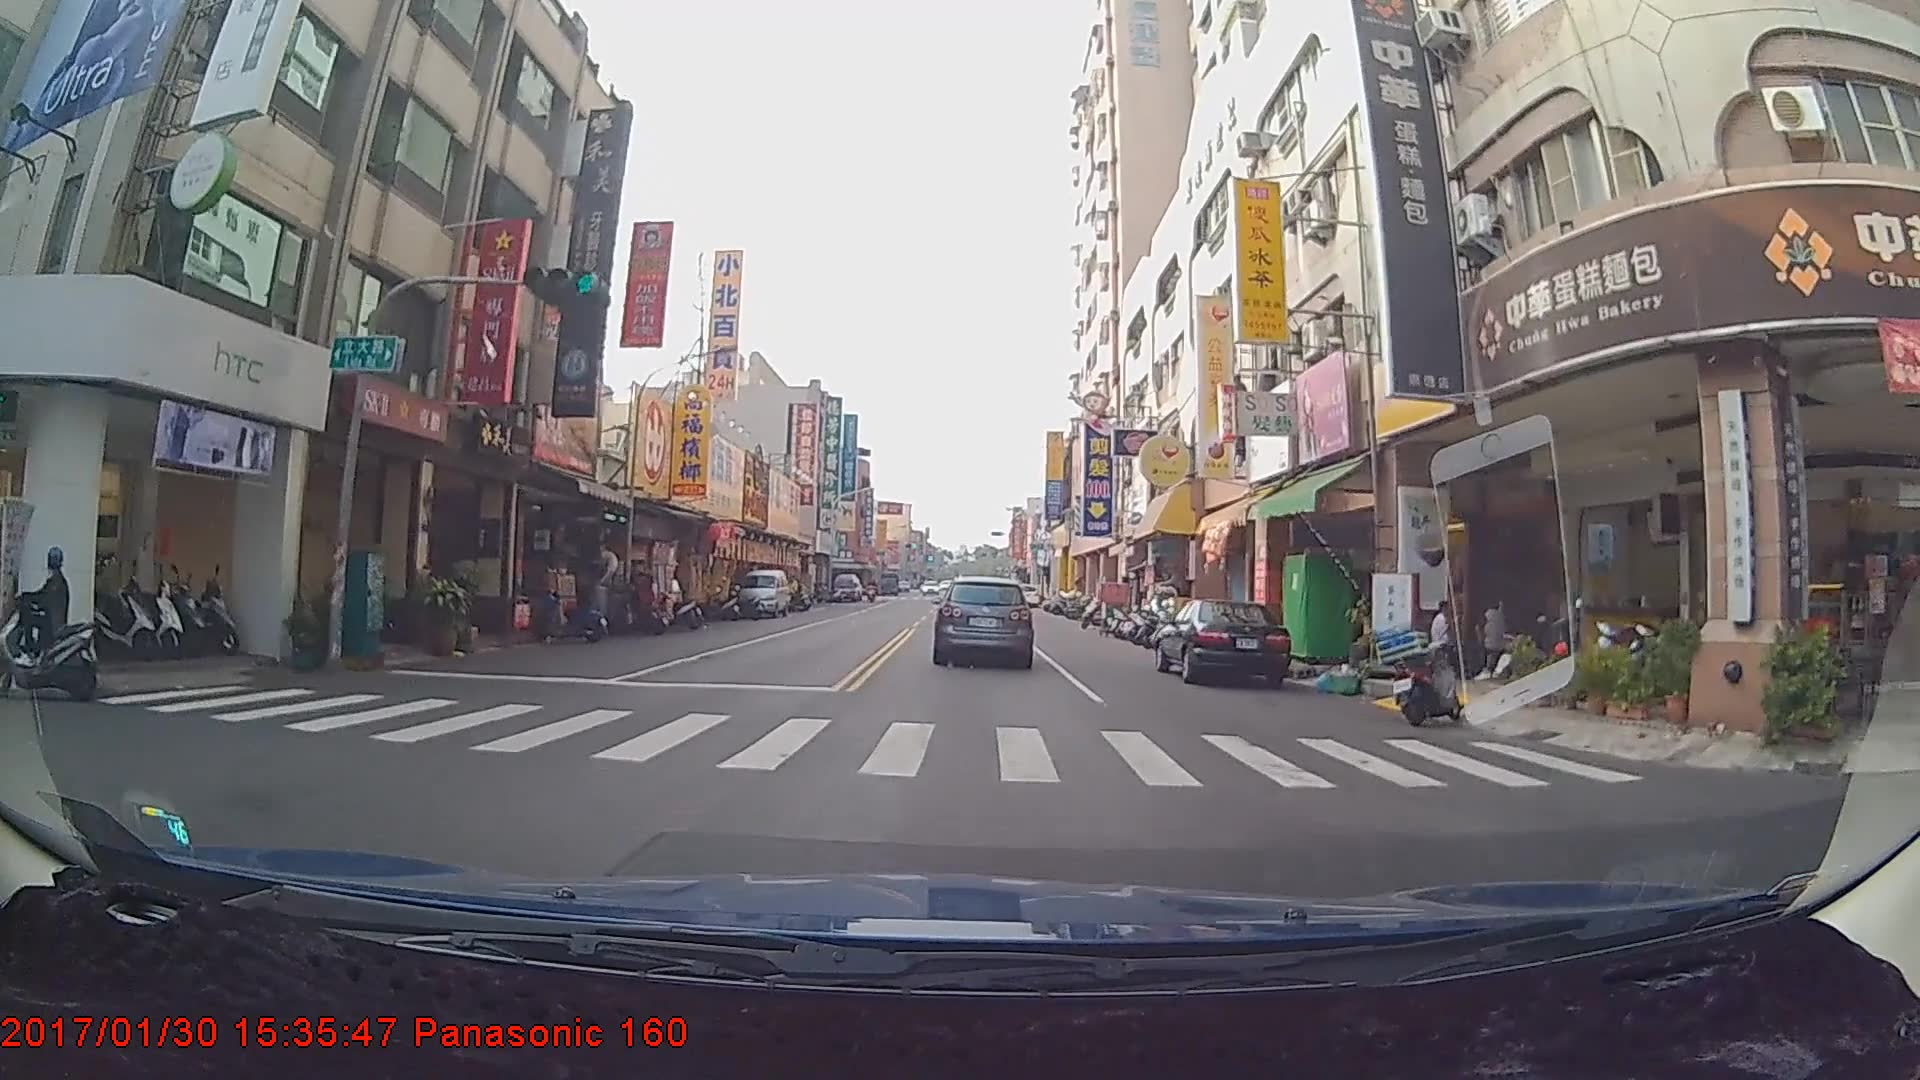pedestrian: (1472, 594, 1507, 681), (1426, 594, 1460, 679)
rider: (1, 549, 104, 697)
vehicle: (1159, 596, 1290, 687), (934, 578, 1032, 666), (732, 567, 786, 619), (831, 568, 860, 597)
